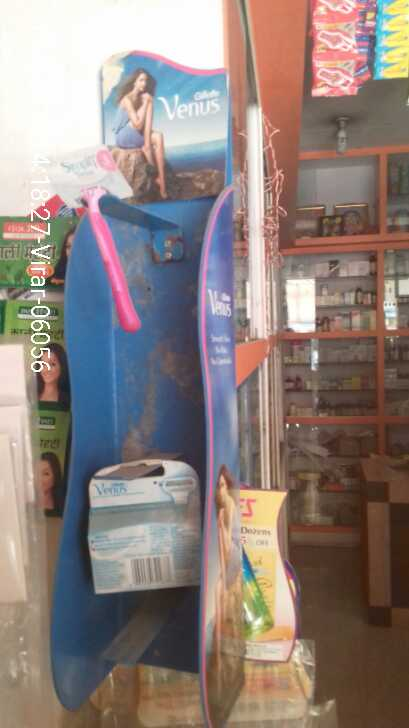beauty: (50, 156, 152, 343), (77, 476, 218, 610)
